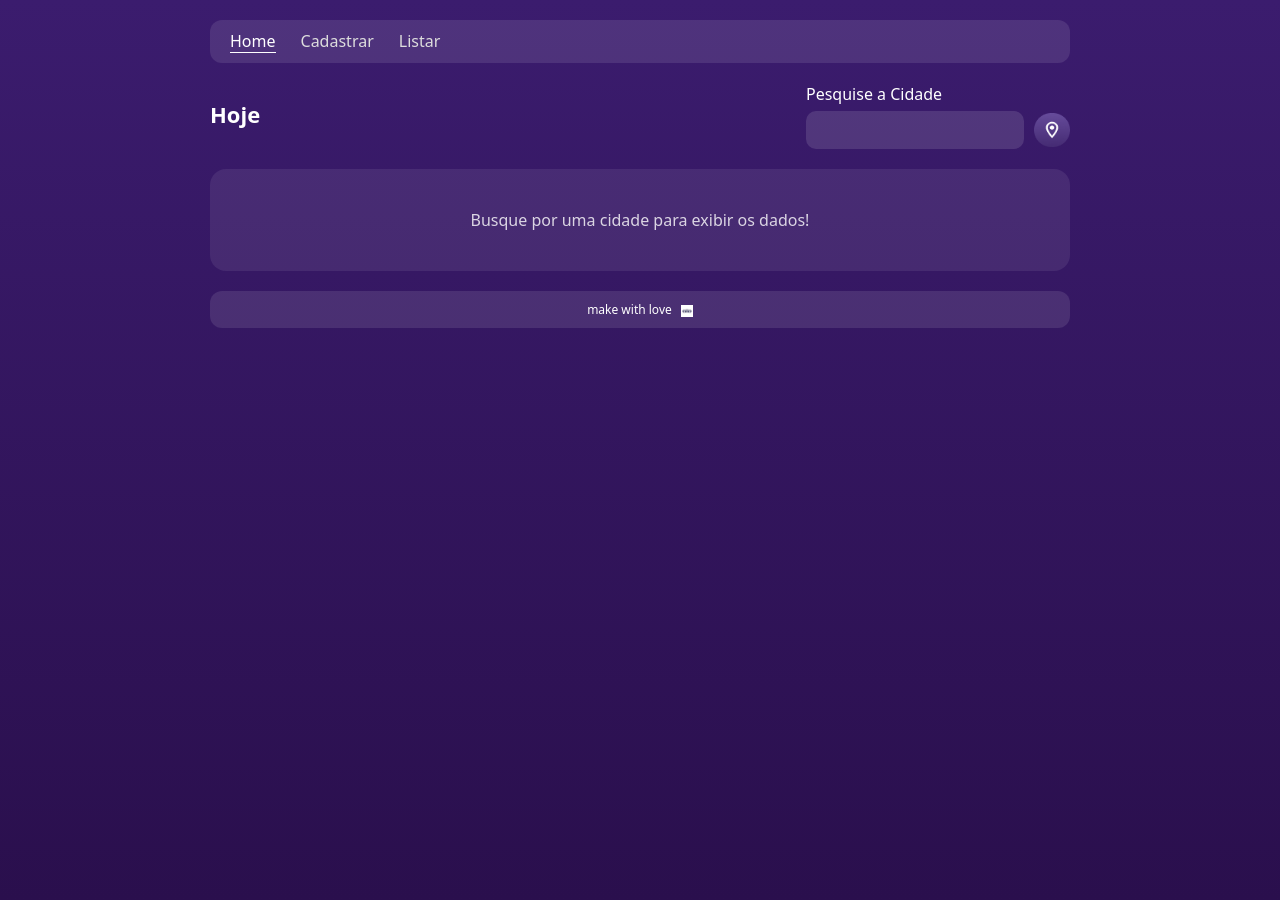
Test: Home › deve buscar clima e exibir dados
Type "Canoas" into the field.
click(915, 130); type("Canoas")  # box [806,111,1024,149]
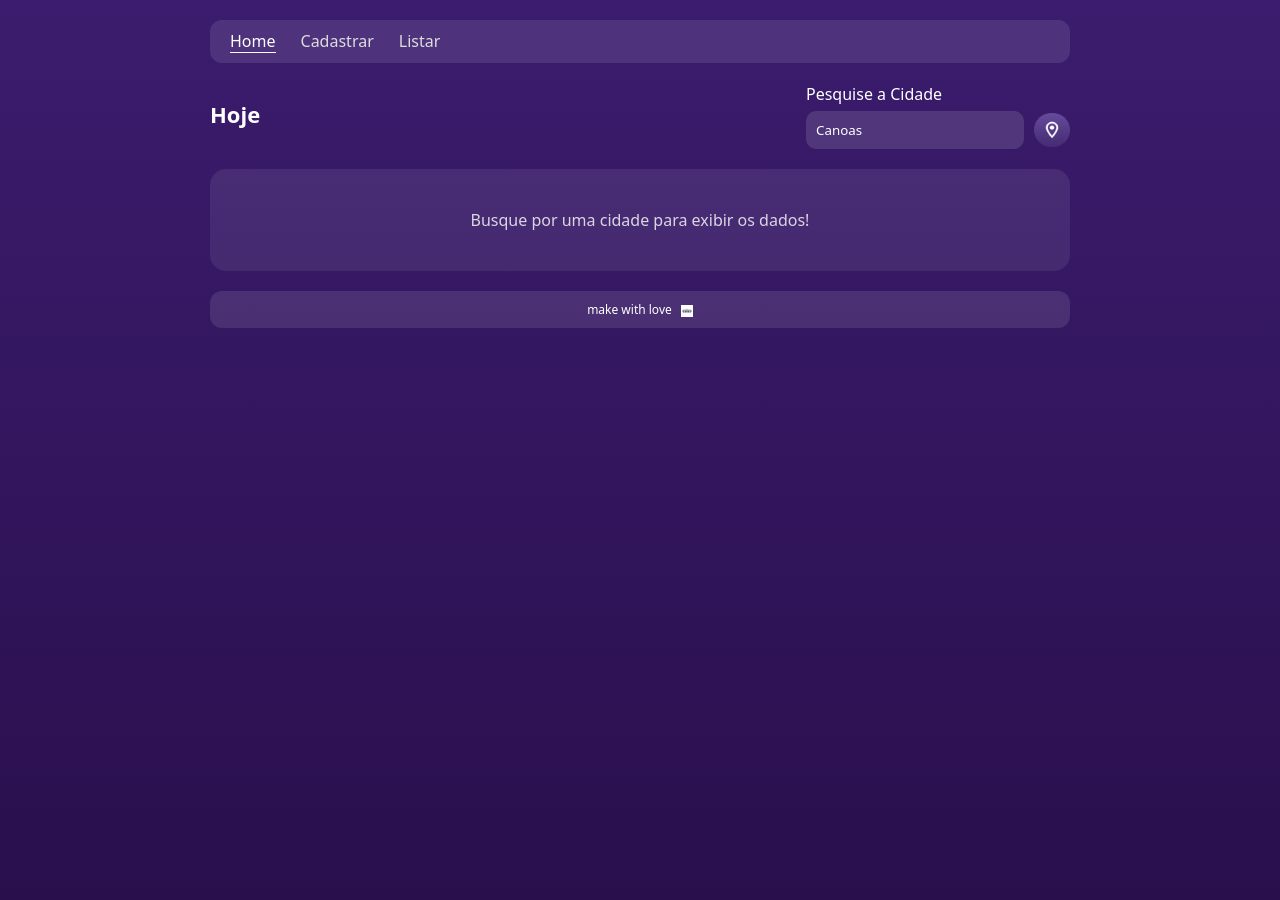
Click the picture with alt text "buscar".
click(1052, 130)  # box [1034,113,1070,147]
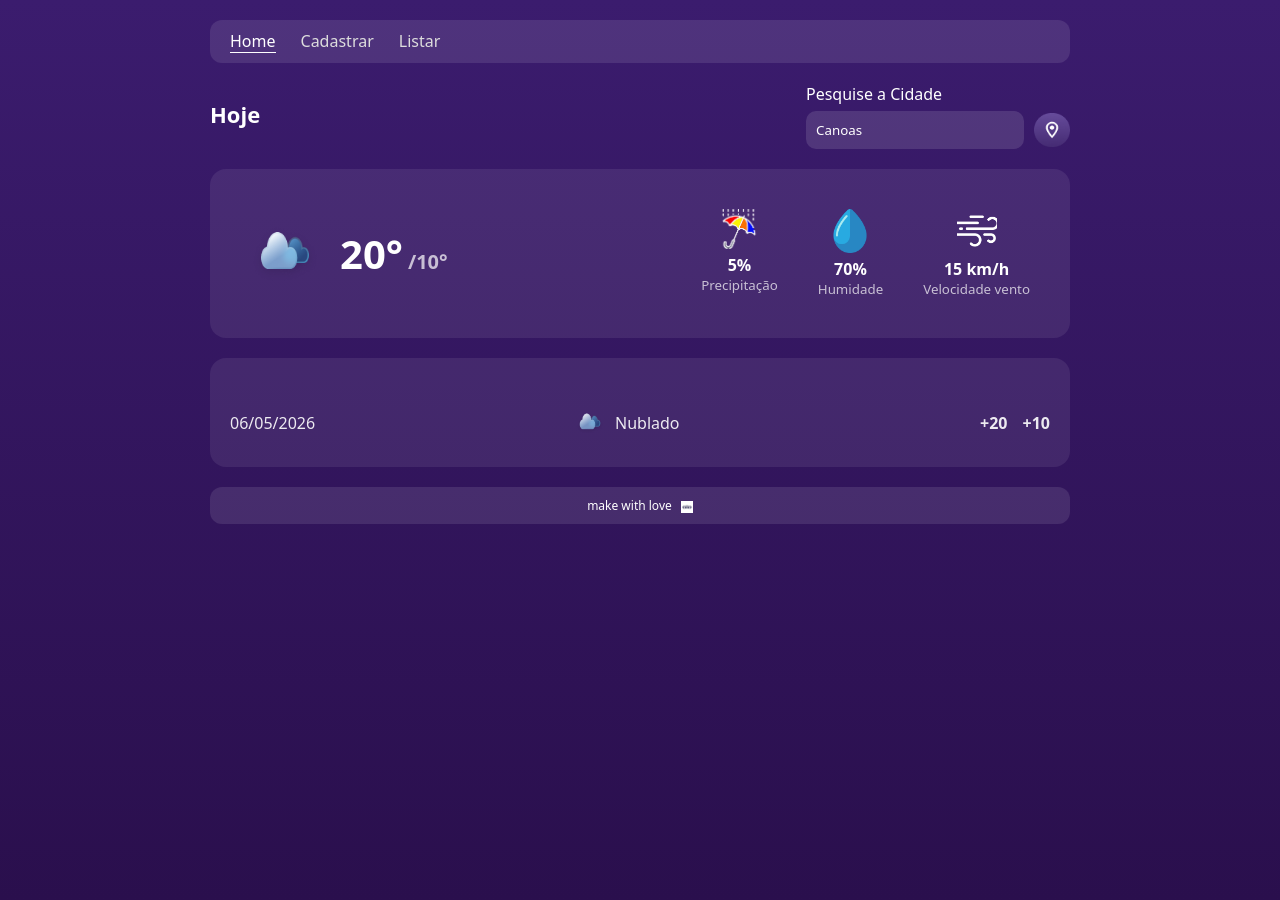
expect the text "20°" is shown: met, box [340,226,403,281]
expect the text "70%" is shown: met, box [834,258,867,280]
expect the text "15 km/h" is shown: met, box [944,258,1009,280]
